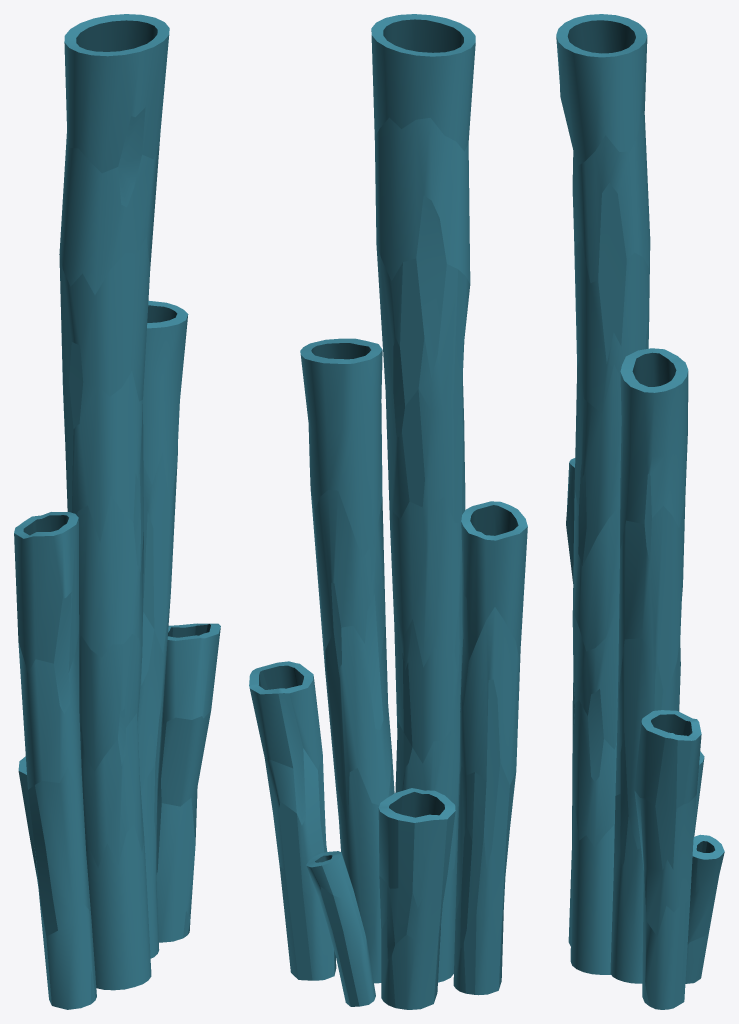
The model's file is coral_tube_set_A.fbx.
The picture shows the model from 3 angles, left to right: view 1: azimuth 30°, elevation 25°; view 2: azimuth 150°, elevation 25°; view 3: azimuth 270°, elevation 25°; orthographic projection.
Parts seen in each view (by area): view 1: coral_tube_set_A_A, coral_tube_set_A_C, coral_tube_set_A_B, coral_tube_set_A_D, coral_tube_set_A_E; view 2: coral_tube_set_A_A, coral_tube_set_A_B, coral_tube_set_A_C, coral_tube_set_A_D, coral_tube_set_A_E, coral_tube_set_A_F; view 3: coral_tube_set_A_A, coral_tube_set_A_B, coral_tube_set_A_D, coral_tube_set_A_F, coral_tube_set_A_C.
Part boxes in pixels (box(x1,y1,x2,y2)): coral_tube_set_A_A: box(59, 14, 169, 990); coral_tube_set_A_C: box(14, 512, 96, 1009); coral_tube_set_A_B: box(137, 301, 188, 958); coral_tube_set_A_D: box(156, 623, 220, 942); coral_tube_set_A_E: box(18, 756, 38, 885); coral_tube_set_A_A: box(371, 14, 475, 982); coral_tube_set_A_B: box(300, 338, 394, 983); coral_tube_set_A_C: box(453, 501, 527, 995); coral_tube_set_A_D: box(249, 661, 336, 980); coral_tube_set_A_E: box(378, 788, 455, 1009); coral_tube_set_A_F: box(306, 851, 375, 1006); coral_tube_set_A_A: box(556, 14, 650, 974); coral_tube_set_A_B: box(610, 348, 688, 983); coral_tube_set_A_D: box(634, 710, 701, 1009); coral_tube_set_A_F: box(685, 834, 724, 983); coral_tube_set_A_C: box(566, 458, 575, 946).
Bounding box in the file's own units: 63.87 × 245 × 40.02.
